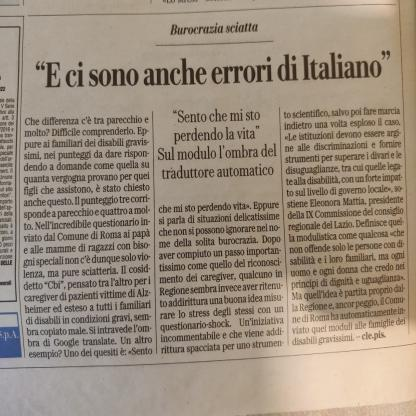testo_col: (21, 109, 155, 361), (283, 103, 410, 354), (156, 201, 285, 360)
titolo: (28, 46, 395, 95)
